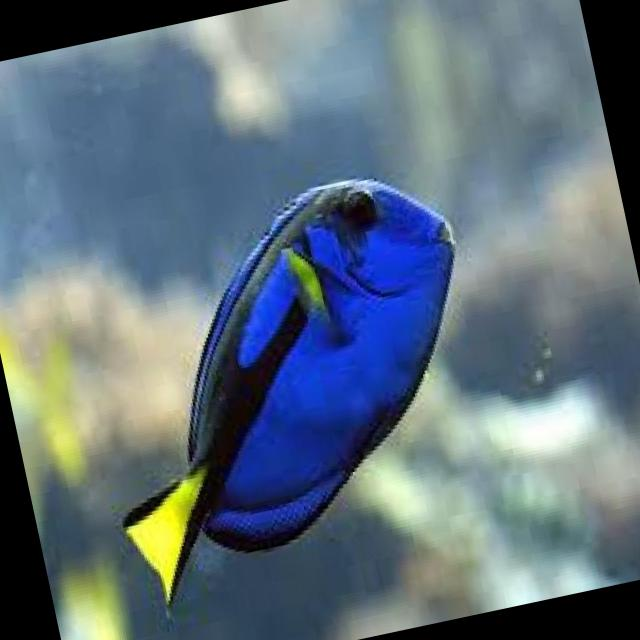TangFish: (42, 153, 520, 626)
